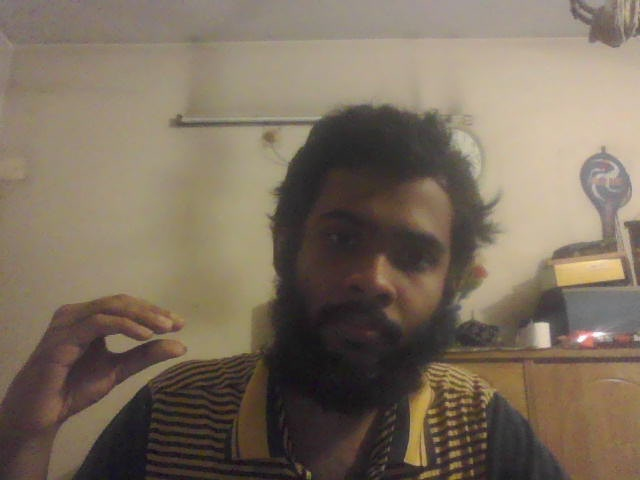No: (1, 292, 188, 415)
